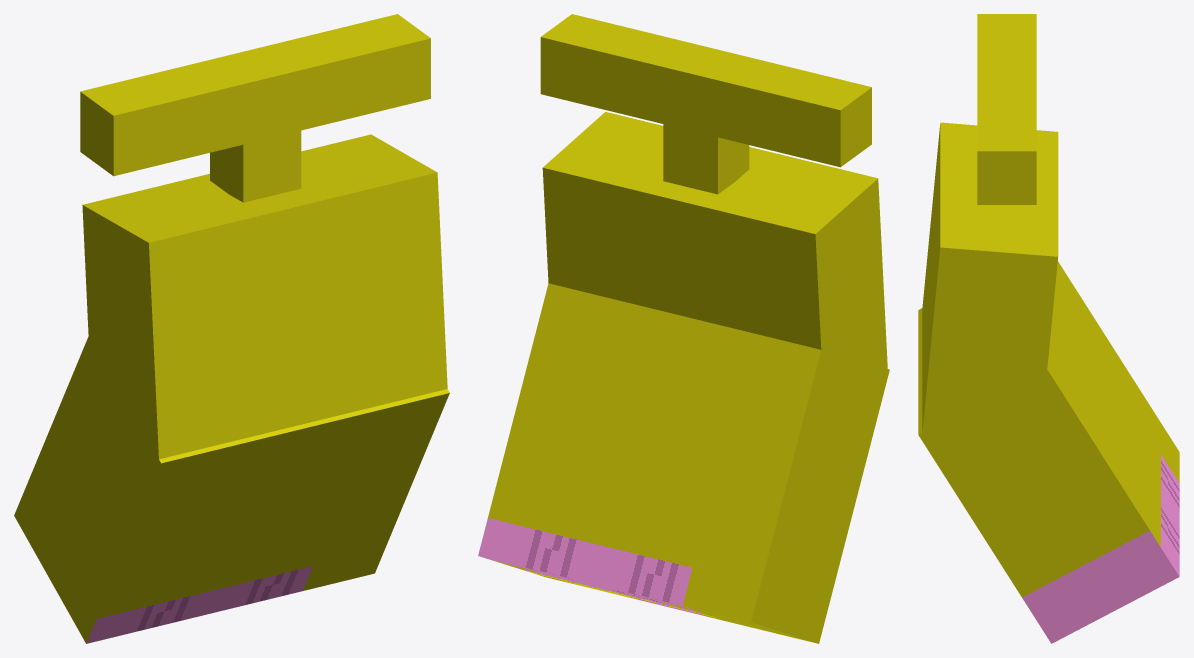
File: nanab.obj
3 renders of one model, left to right at view 1: azimuth 30°, elevation 25°; view 2: azimuth 150°, elevation 25°; view 3: azimuth 270°, elevation 25°, orthographic. The views are drawn at different scales.
Parts seen in each view (by area): view 1: Nanab; view 2: Nanab; view 3: Nanab.
Part boxes in pixels (x1,y1,x2,y2): Nanab: (14,14,449,643); Nanab: (478,14,889,643); Nanab: (918,14,1179,643).
Size of the model in its own units: 0.3438 by 0.5814 by 0.2759.
